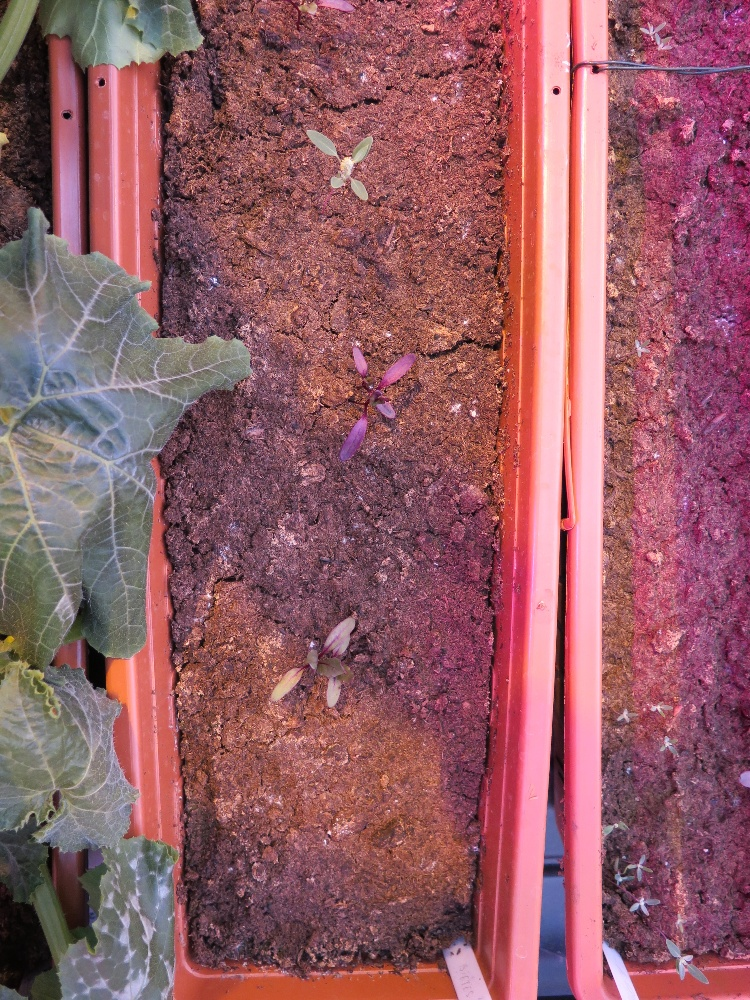crop: (333, 324, 421, 460), (269, 606, 366, 724), (303, 121, 376, 209)
weed: (642, 920, 718, 993), (602, 848, 656, 890), (629, 887, 669, 920), (596, 812, 634, 845), (656, 726, 688, 764), (612, 702, 636, 736), (650, 694, 675, 720)
